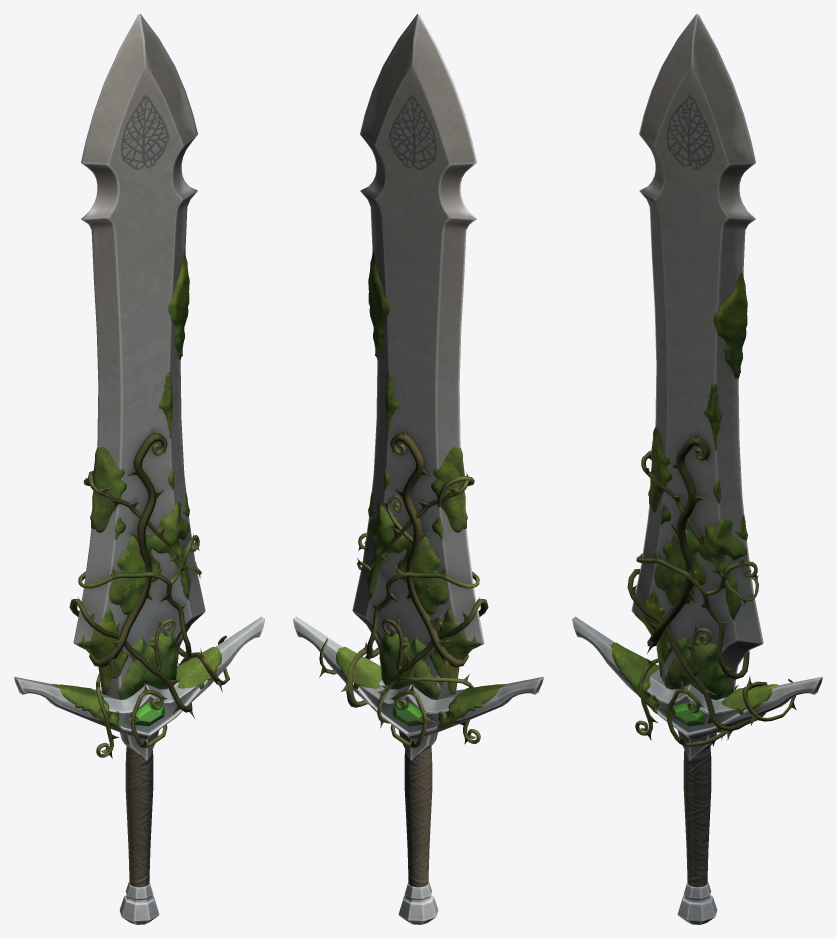
File: sm_sword_68.gltf
3 views of the same model, side by side, from view 1: azimuth 30°, elevation 25°; view 2: azimuth 150°, elevation 25°; view 3: azimuth 330°, elevation 25° (orthographic).
Visible parts, largest first — view 1: sm_sword_68; view 2: sm_sword_68; view 3: sm_sword_68.
Boxes of the visible parts, <box> form: sm_sword_68: <box>14,14,264,924</box>; sm_sword_68: <box>293,14,543,924</box>; sm_sword_68: <box>572,14,822,924</box>.
Size of the model in its own units: 0.4062 by 1.42 by 0.0988.
1 material, 1 textured.
